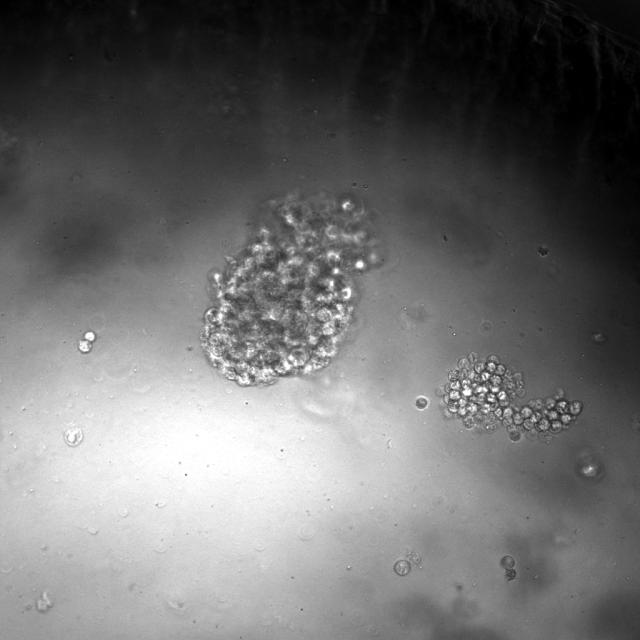organoid: (201, 195, 381, 385), (436, 353, 582, 444), (393, 547, 421, 576), (500, 555, 516, 580), (78, 331, 96, 353), (63, 426, 82, 446), (414, 395, 429, 410), (537, 244, 549, 257), (455, 583, 464, 593)
